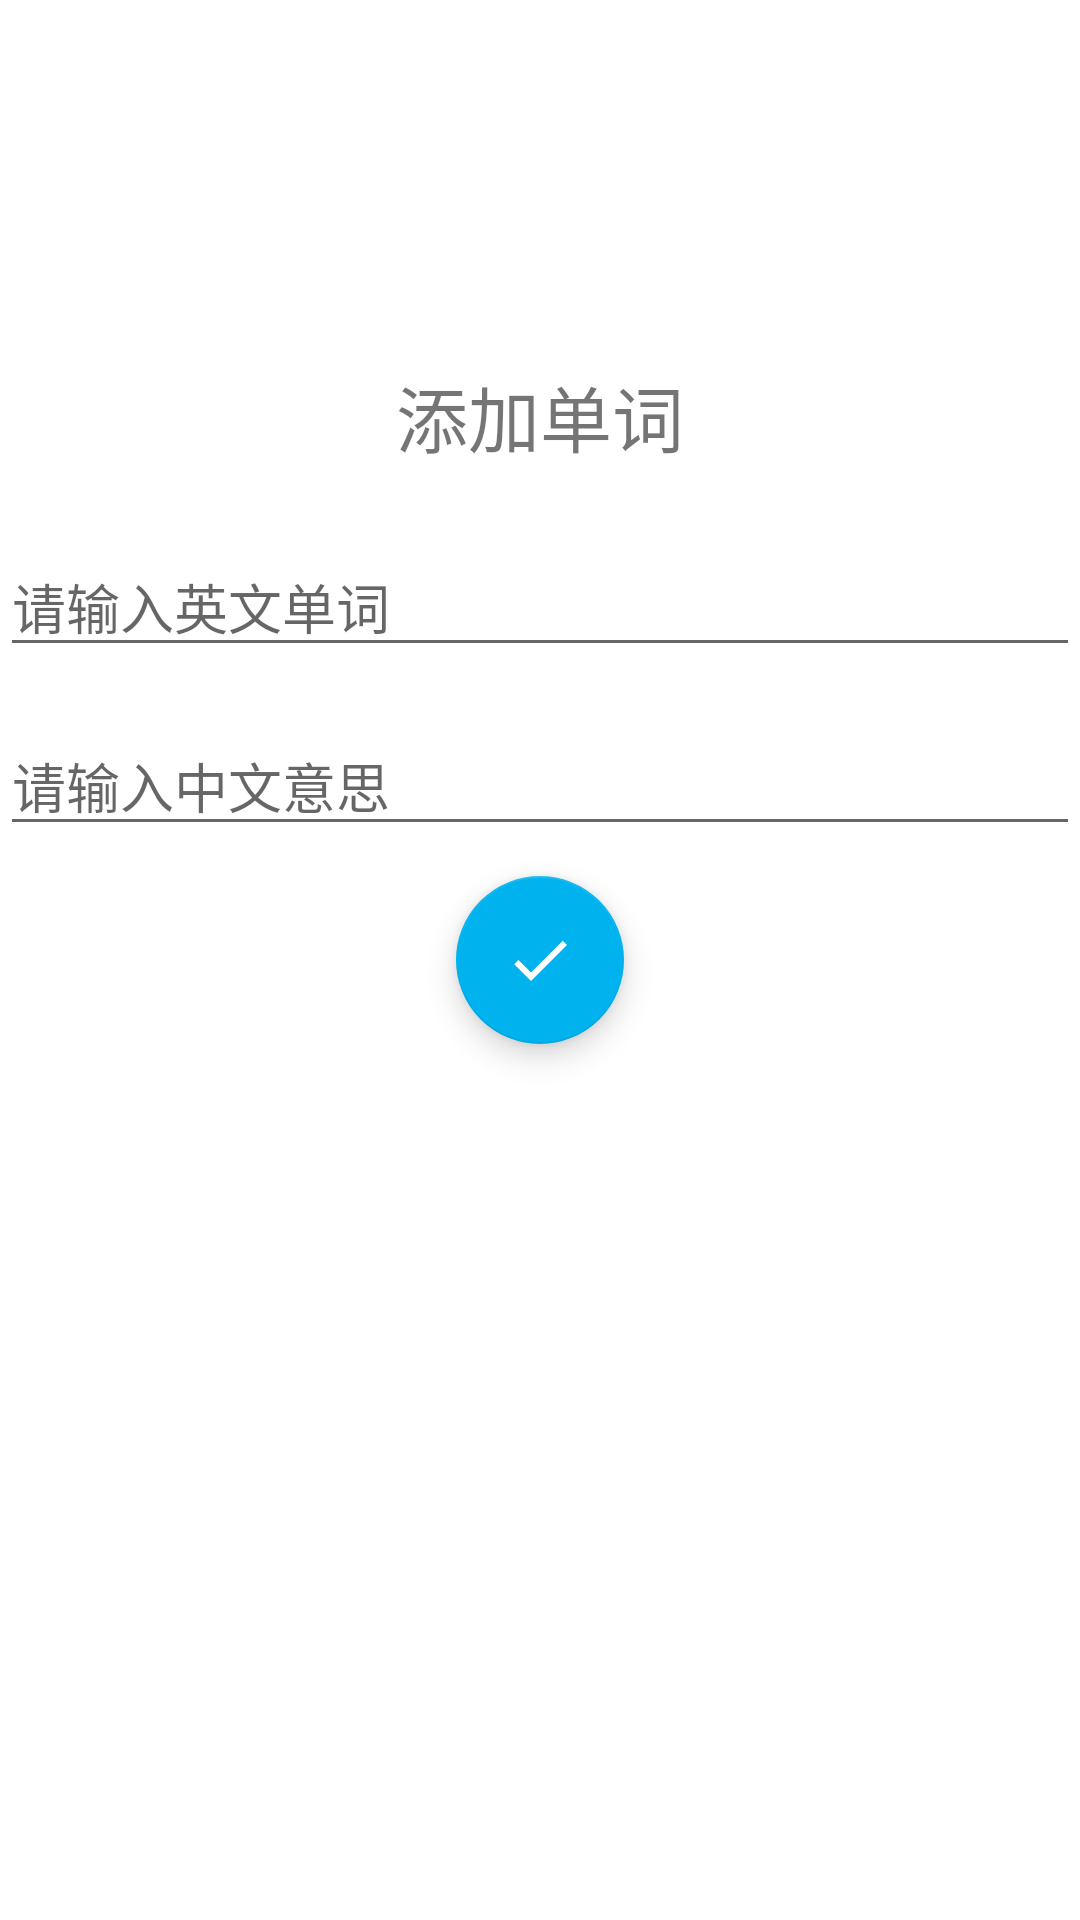

Icons on this 1080×1920 Android screen, each with its box as (x1,y1,x2,y2):
check: (456,876,624,1044)
